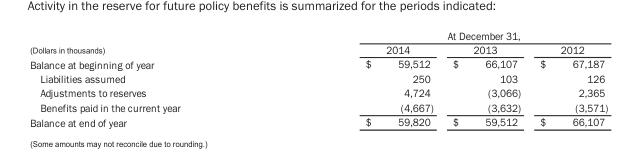table: (29, 28, 607, 128)
table column: (29, 28, 272, 128), (272, 28, 442, 128), (442, 28, 529, 128), (529, 28, 607, 128)
table column header: (29, 28, 607, 56)
table row: (29, 70, 607, 85), (29, 99, 607, 114), (29, 28, 607, 42), (29, 42, 607, 56), (29, 56, 607, 70), (29, 85, 607, 99), (29, 114, 607, 128)
table spanning cell: (29, 28, 272, 56), (272, 28, 607, 42)
